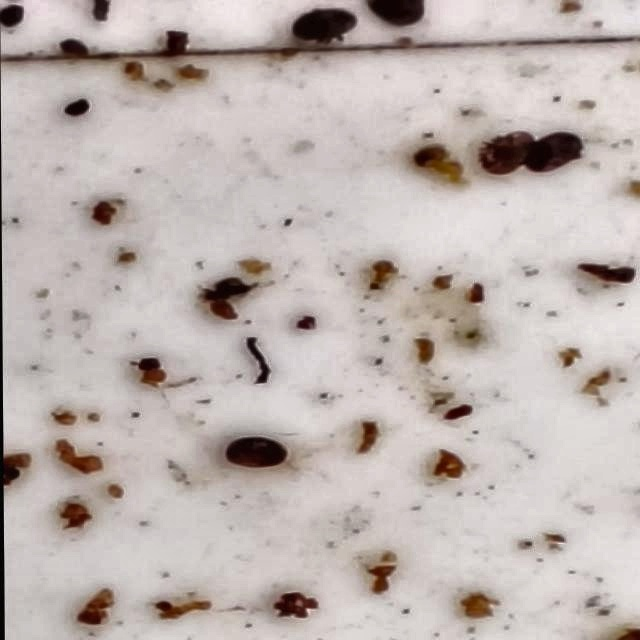varroa: (476, 130, 532, 180), (288, 9, 357, 45), (221, 439, 291, 473), (529, 133, 584, 174), (56, 40, 92, 63), (61, 100, 91, 120)
